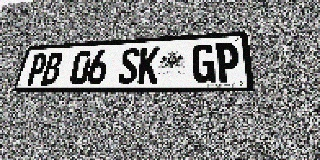0: (69, 50, 93, 85)
6: (86, 49, 110, 85)
B: (40, 52, 64, 85)
G: (192, 43, 215, 83)
K: (137, 47, 160, 84)
P: (215, 42, 240, 83), (25, 53, 49, 85)
S: (117, 48, 140, 84)
